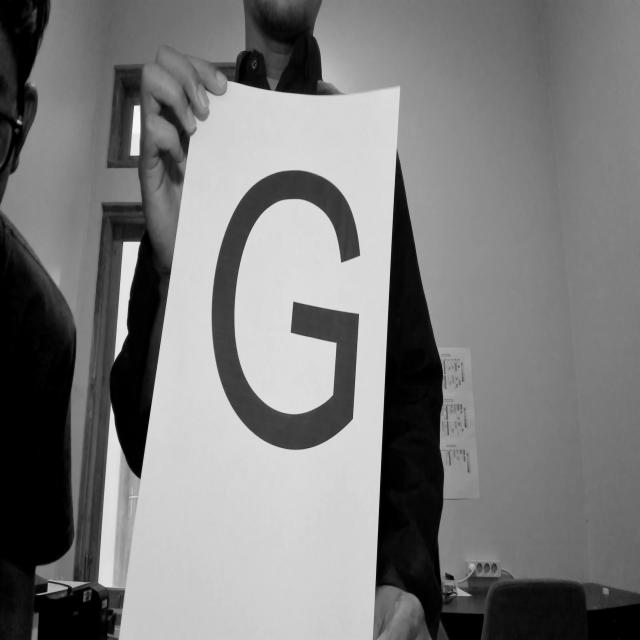g: (200, 159, 392, 462)
